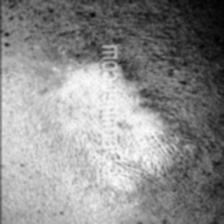Unclassified: (28, 69, 180, 186)
